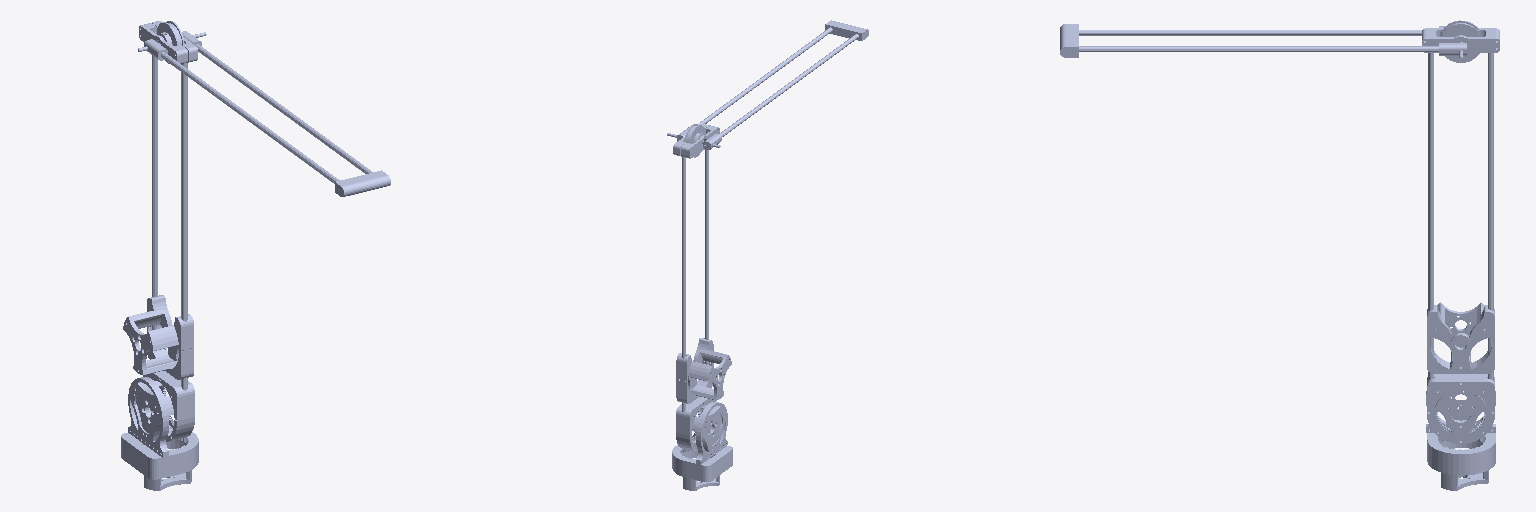
URDF robot description (TorquePoleLong):
<?xml version="1.0" encoding="utf-8"?>
<!-- This URDF was automatically created by SolidWorks to URDF Exporter! Originally created by [author] ([email redacted]) 
     Commit Version: 1.6.0-4-g7f85cfe  Build Version: 1.6.7995.38578
     For more information, please see http://wiki.ros.org/sw_urdf_exporter -->
<robot
  name="TorquePoleLong">
  <link
    name="base_link">
    <inertial>
      <origin
        xyz="-0.014371 0.00028403 -0.46179"
        rpy="0 0 0" />
      <mass
        value="0.36931" />
      <inertia
        ixx="0.00069867"
        ixy="1.9195E-10"
        ixz="1.1612E-06"
        iyy="0.00050718"
        iyz="1.3223E-09"
        izz="0.00038222" />
    </inertial>
    <visual>
      <origin
        xyz="0 0 0"
        rpy="0 0 0" />
      <geometry>
        <mesh
          filename="package://TorquePoleLong/meshes/base_link.STL" />
      </geometry>
      <material
        name="">
        <color
          rgba="0.79216 0.81961 0.93333 1" />
      </material>
    </visual>
    <collision>
      <origin
        xyz="0 0 0"
        rpy="0 0 0" />
      <geometry>
        <mesh
          filename="package://TorquePoleLong/meshes/base_link.STL" />
      </geometry>
    </collision>
  </link>
  <link
    name="pendulum">
    <inertial>
      <origin
        xyz="-0.0039932 -0.18792 -2.1363E-05"
        rpy="0 0 0" />
      <mass
        value="0.073435" />
      <inertia
        ixx="0.00025668"
        ixy="-8.6352E-09"
        ixz="-1.1815E-08"
        iyy="1.5609E-05"
        iyz="6.4928E-11"
        izz="0.00026245" />
    </inertial>
    <visual>
      <origin
        xyz="0 0 0"
        rpy="0 0 0" />
      <geometry>
        <mesh
          filename="package://TorquePoleLong/meshes/pendulum.STL" />
      </geometry>
      <material
        name="">
        <color
          rgba="0.79216 0.81961 0.93333 1" />
      </material>
    </visual>
    <collision>
      <origin
        xyz="0 0 0"
        rpy="0 0 0" />
      <geometry>
        <mesh
          filename="package://TorquePoleLong/meshes/pendulum.STL" />
      </geometry>
    </collision>
  </link>
  <joint
    name="PullyJoint"
    type="revolute">
    <origin
      xyz="0 0 0"
      rpy="0 0 0" />
    <parent
      link="base_link" />
    <child
      link="pendulum" />
    <axis
      xyz="-1 0 0" />
    <limit
      lower="-4.35"
      upper="4.5"
      effort="3"
      velocity="60" />
  </joint>
</robot>

--- Render facts (derived) ---
Views: 3 orthographic renders of the robot side by side, from view 1: azimuth 30°, elevation 25°; view 2: azimuth 150°, elevation 25°; view 3: azimuth 270°, elevation 25°.
Robot: TorquePoleLong — 2 links, 1 joints (1 revolute); root link base_link; default pose: all joints at 0.
Visible links, largest first — view 1: base_link, pendulum; view 2: base_link, pendulum; view 3: base_link, pendulum.
Link boxes in pixels (left/top/right/bottom): base_link: left=121, top=21, right=198, bottom=490; pendulum: left=138, top=21, right=390, bottom=196; base_link: left=672, top=124, right=732, bottom=490; pendulum: left=667, top=20, right=868, bottom=157; base_link: left=1422, top=28, right=1499, bottom=490; pendulum: left=1060, top=20, right=1481, bottom=62.
Size in the robot's own frame: 0.1046 by 0.5625 by 0.6494 metres.
2 mesh visuals loaded from 2 distinct referenced files (2 binary STL).
